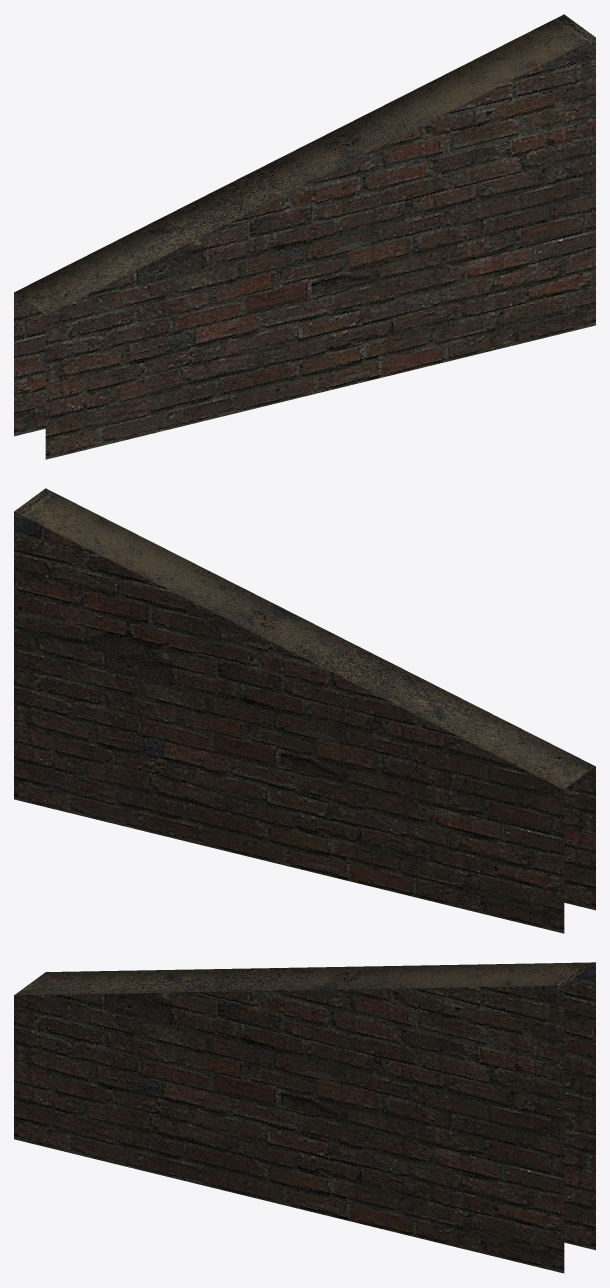
File: wall_top_part_hs_2.glb
The picture shows the model from 3 angles, top to bottom: view 1: azimuth 30°, elevation 25°; view 2: azimuth 150°, elevation 25°; view 3: azimuth 330°, elevation 25°; orthographic projection.
Parts seen in each view (by area): view 1: wall_top_part_hs_2; view 2: wall_top_part_hs_2; view 3: wall_top_part_hs_2.
Part boxes in pixels (bbox=[...]): wall_top_part_hs_2: bbox=[14, 14, 595, 459]; wall_top_part_hs_2: bbox=[14, 488, 595, 933]; wall_top_part_hs_2: bbox=[14, 962, 595, 1273].
Bounding box in the file's own units: 4 × 2 × 0.4.
Materials: 2 (2 with a texture image).
